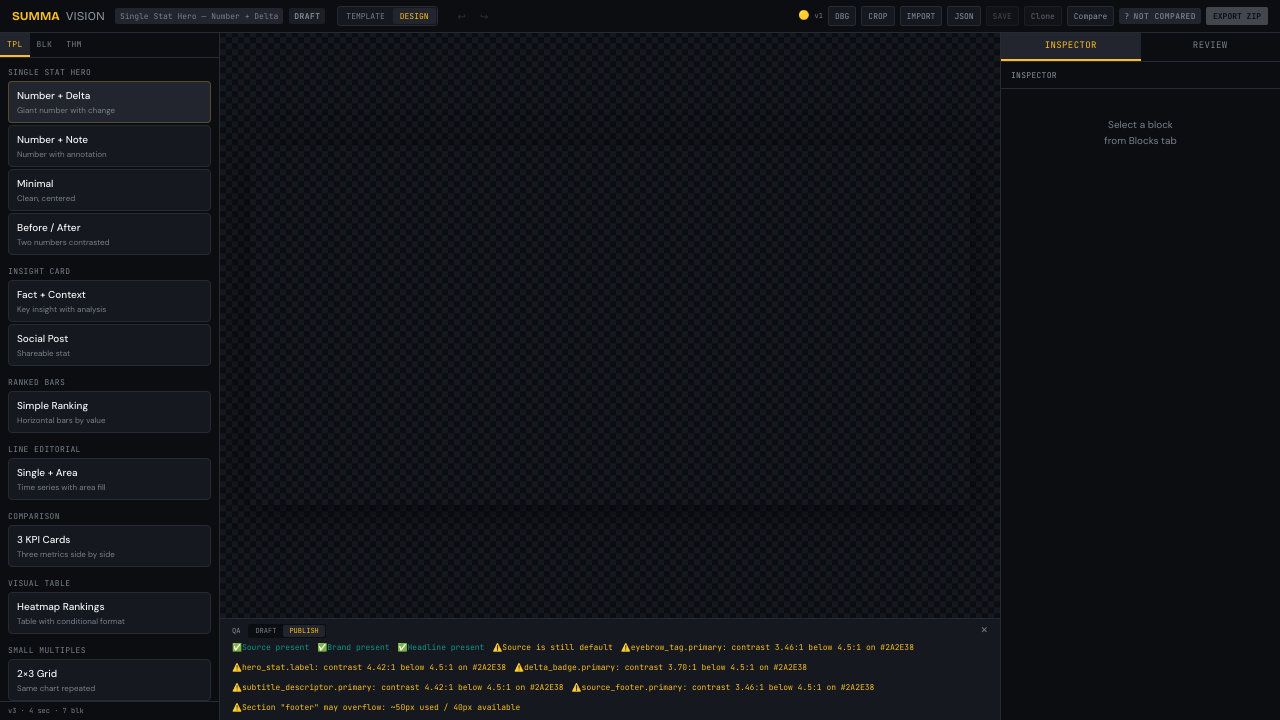
Scenario: Autosave 412 PRECONDITION_FAILED real-wire › 412 PRECONDITION_FAILED surfaces the modal and bypasses NotificationBanner auto-retry
The image size is (1280, 720).
Click the tab with id "left-tab-theme": coordinates (74, 45) [59, 33, 89, 57]
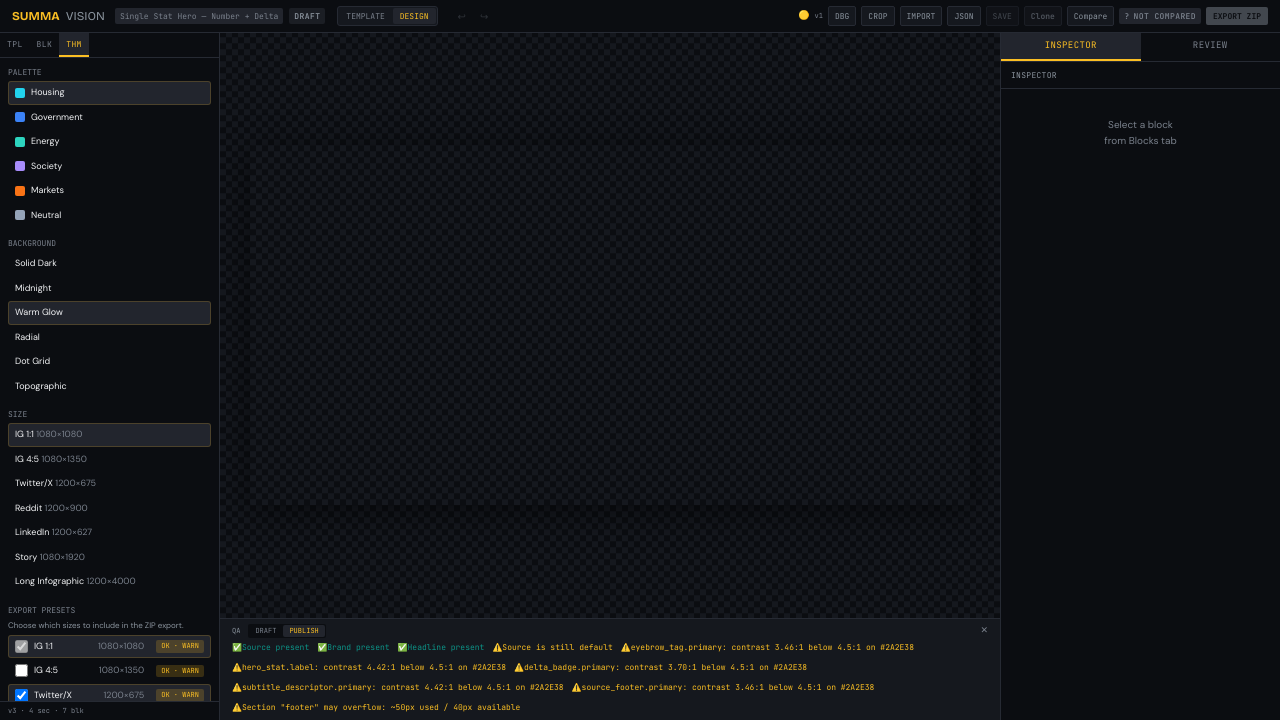
Check: the button "Government" is shown
Click the button "Government": coordinates (110, 117) [8, 106, 211, 129]
Wait 2000 ms
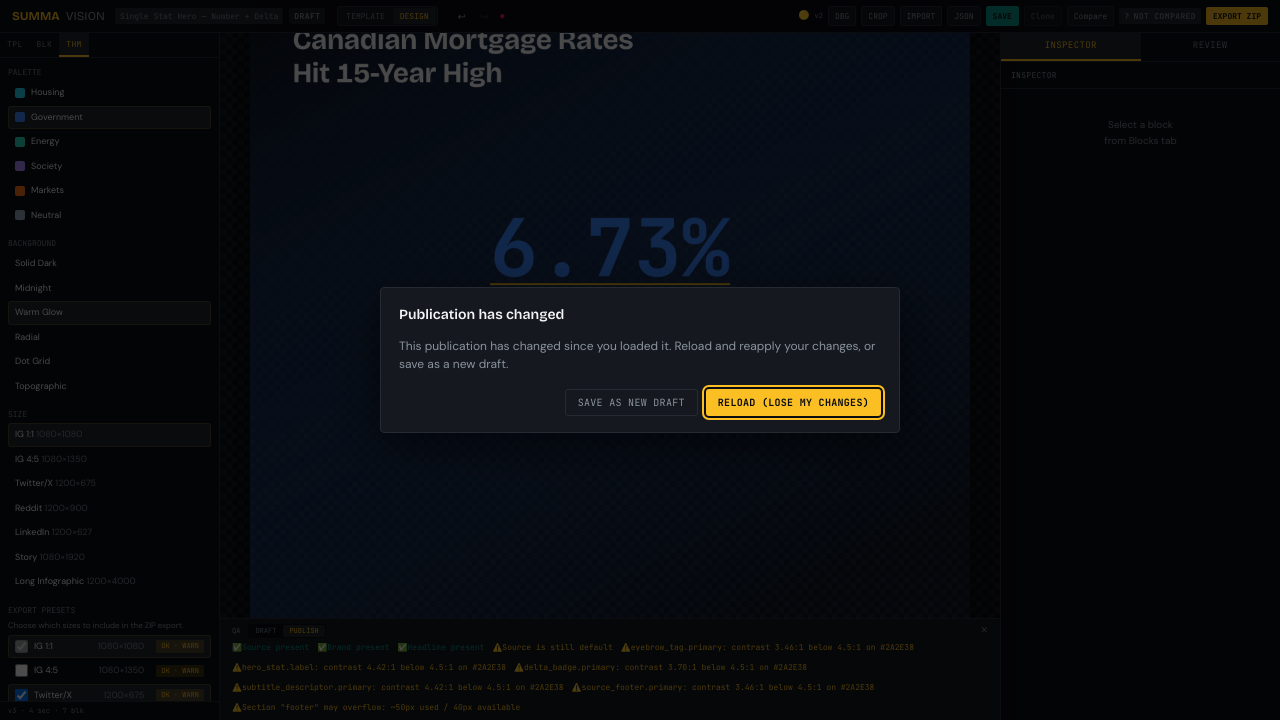
Check: the heading "Publication has changed" is shown, box [399, 306, 564, 323]
Check: the button "Reload (lose my changes)" is shown, box [706, 389, 881, 416]
Check: the button "Save as new draft" is shown, box [565, 389, 698, 416]
